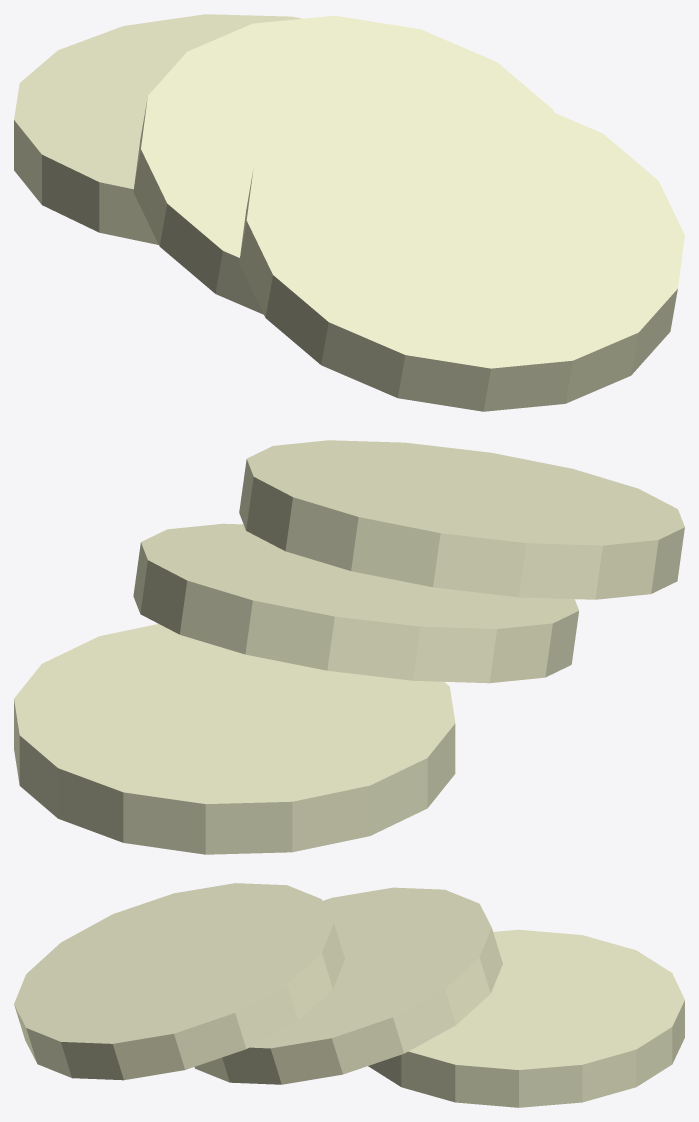
File: Coconut Slice.fbx
3 views of the same model, one above another, from view 1: azimuth 30°, elevation 25°; view 2: azimuth 150°, elevation 25°; view 3: azimuth 270°, elevation 25° (orthographic). The views are drawn at different scales.
Parts seen in each view (by area): view 1: Coconut Slice.002, Coconut Slice.001, Coconut Slice; view 2: Coconut Slice, Coconut Slice.002, Coconut Slice.001; view 3: Coconut Slice.002, Coconut Slice, Coconut Slice.001.
Boxes of the visible parts, x1,y1,x2,y2 form: Coconut Slice.002: (239, 87, 684, 411); Coconut Slice.001: (133, 15, 554, 314); Coconut Slice: (14, 14, 301, 244); Coconut Slice: (14, 624, 455, 854); Coconut Slice.002: (239, 440, 684, 599); Coconut Slice.001: (133, 523, 578, 683); Coconut Slice.002: (14, 883, 344, 1080); Coconut Slice: (368, 929, 684, 1107); Coconut Slice.001: (194, 887, 502, 1084).
Size of the model in its own units: 16.79 by 6.8 by 33.9.
